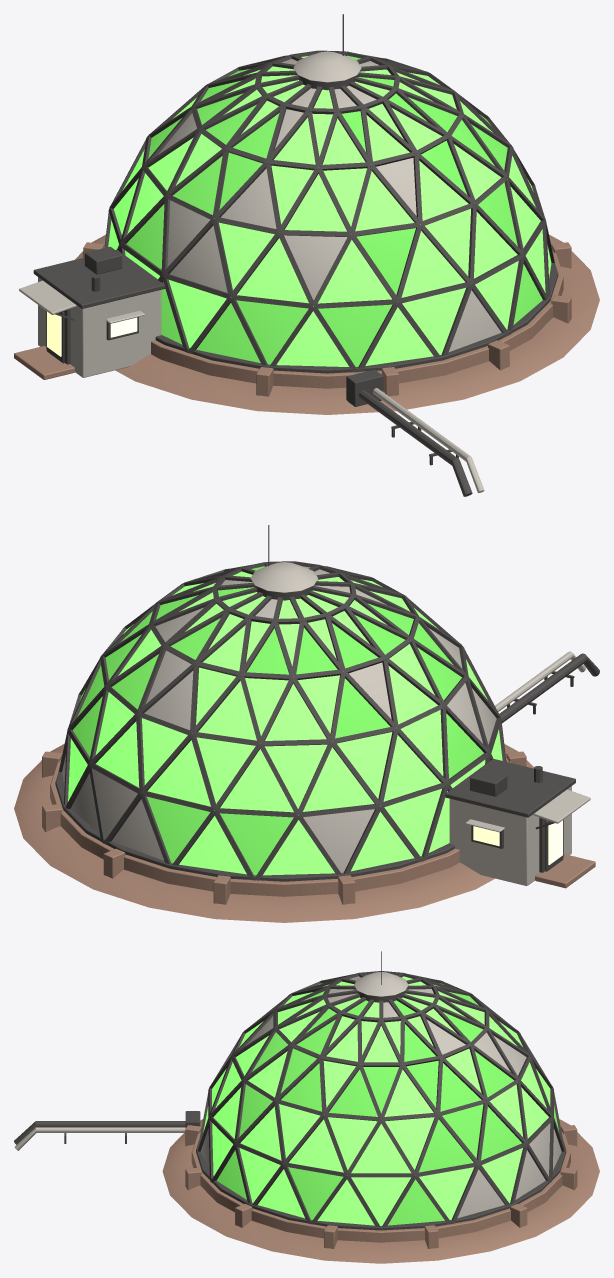
Rendered from dome.glb.
3 renders of one model, top to bottom at view 1: azimuth 30°, elevation 25°; view 2: azimuth 150°, elevation 25°; view 3: azimuth 270°, elevation 25°, orthographic. The views are drawn at different scales.
Visible parts, largest first — view 1: dome; view 2: dome; view 3: dome.
Boxes of the visible parts, left/top/right/bottom form: dome: left=14, top=14, right=599, bottom=496; dome: left=14, top=525, right=599, bottom=922; dome: left=14, top=951, right=599, bottom=1263.
Size of the model in its own units: 20.4 by 10.65 by 24.11.
